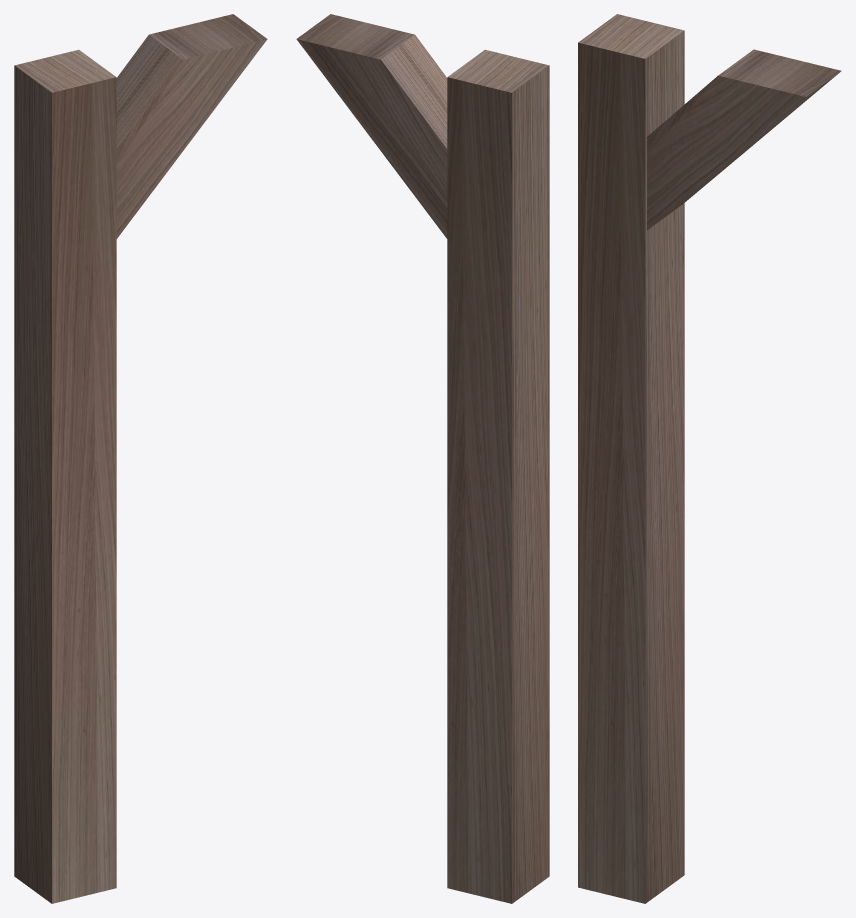
File: Arch.fbx
3 views of the same model, side by side, from view 1: azimuth 30°, elevation 25°; view 2: azimuth 150°, elevation 25°; view 3: azimuth 330°, elevation 25° (orthographic). The views are drawn at different scales.
Parts seen in each view (by area): view 1: Arch; view 2: Arch; view 3: Arch.
Boxes of the visible parts, x1,y1,x2,y2 form: Arch: (14,14,267,903); Arch: (296,14,549,903); Arch: (578,14,841,903).
Size of the model in its own units: 168 by 600 by 50.35.
